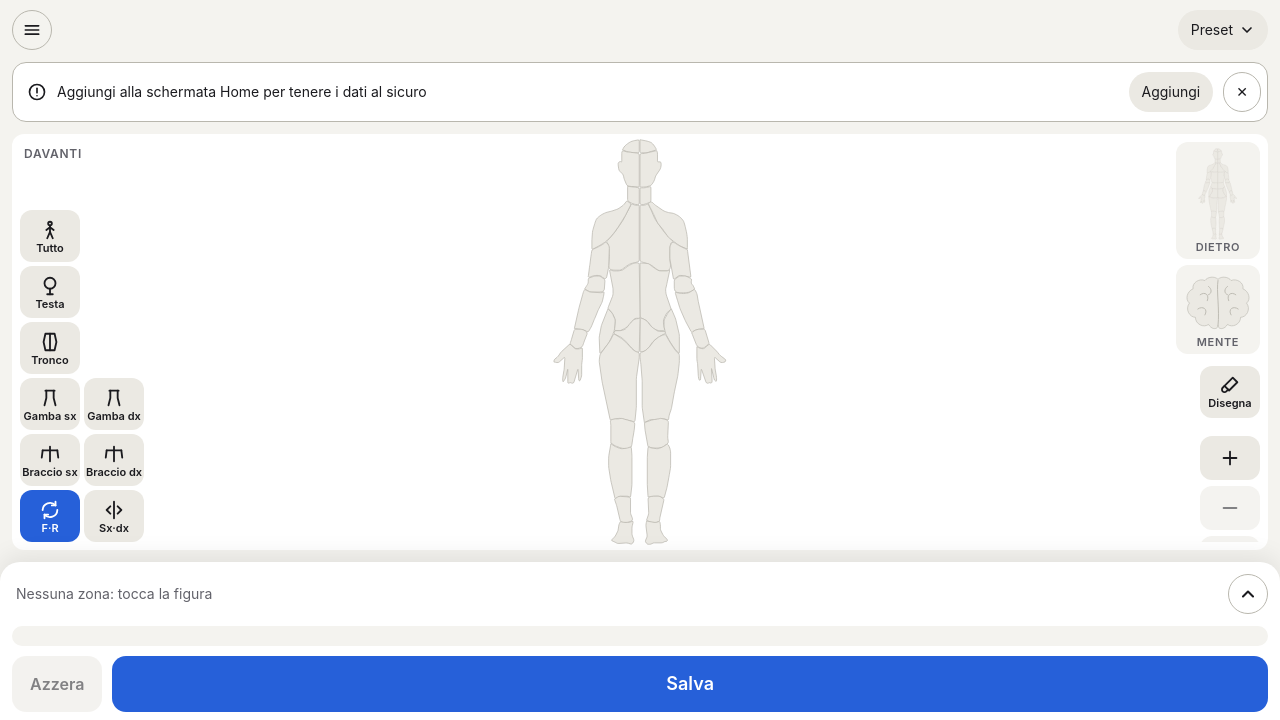
Test: Diary list › groups entries by day, newest first, with the headline in a pill
Click the button named "Menu". click: [32, 30]
box: [12,10,52,50]
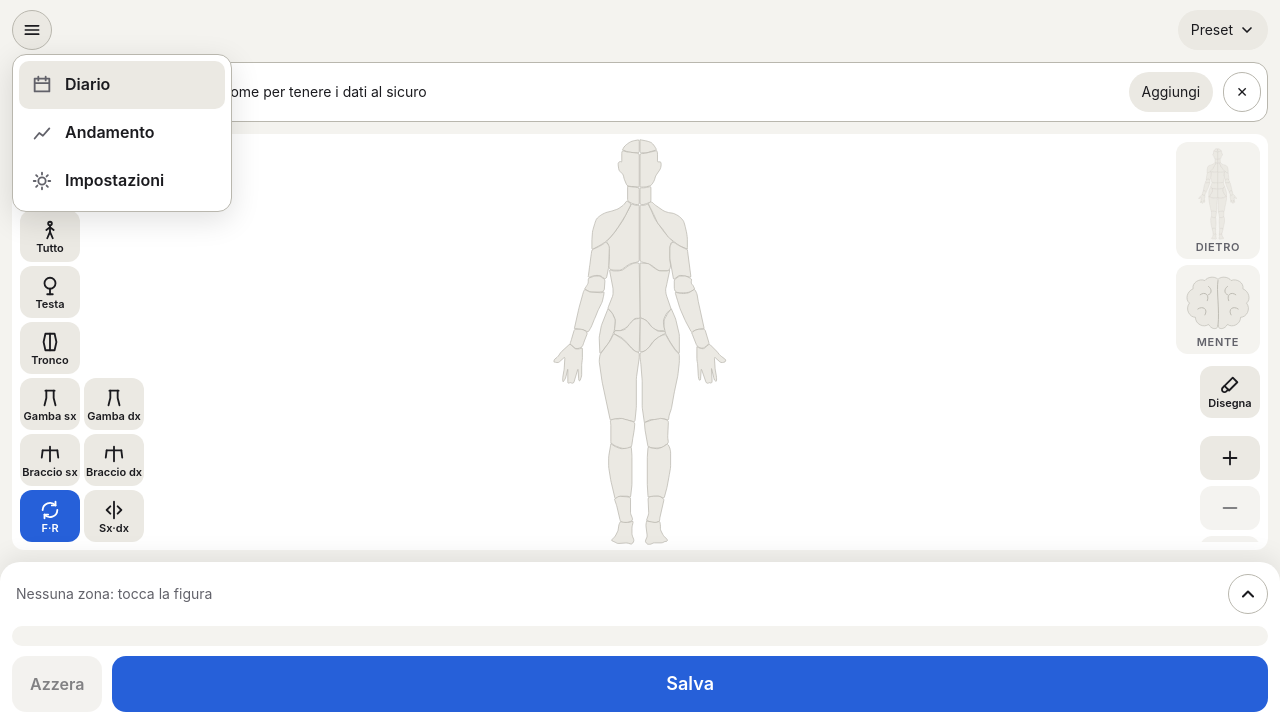
Click the menu item "Diario". click: [122, 85]
box: [19,61,225,109]
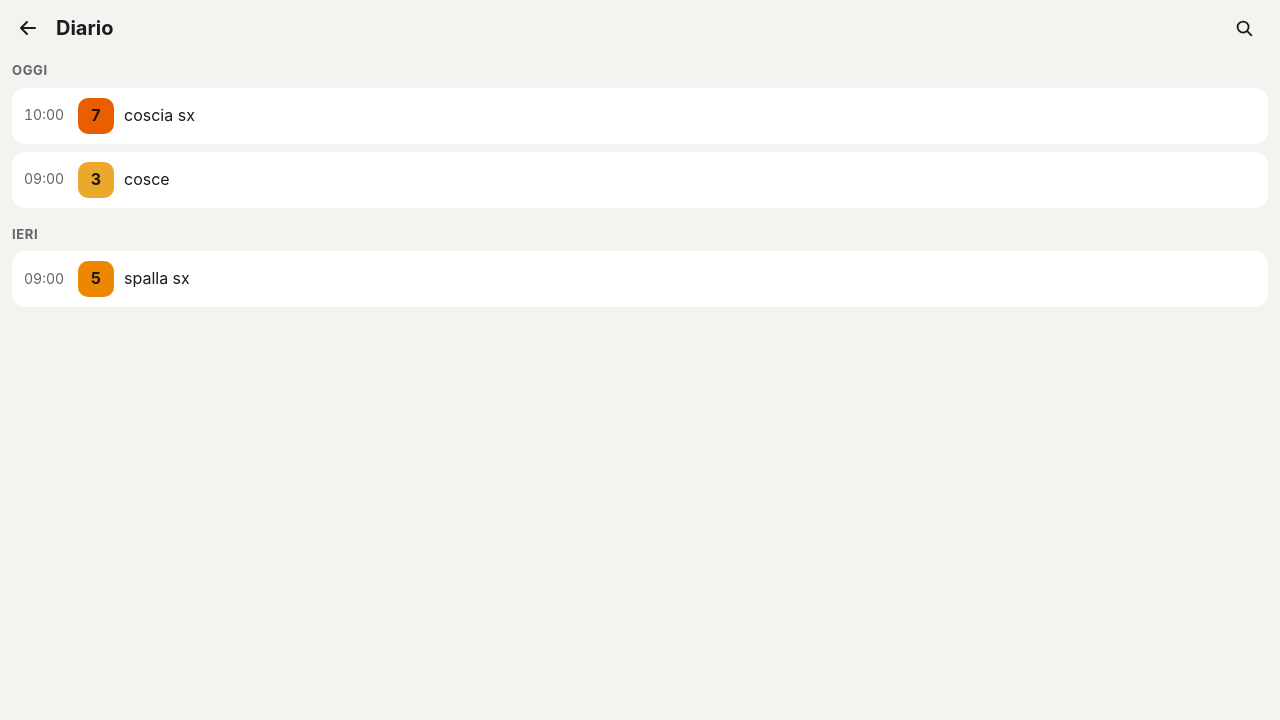
Now the number of buttons "10:00 7 coscia sx" is 3, box [12,88,1268,144]; [12,152,1268,208]; [12,251,1268,307]
Now the text "7" is shown, box [78,98,114,134]
Now the button "10:00 7 coscia sx" is shown, box [12,88,1268,144]
